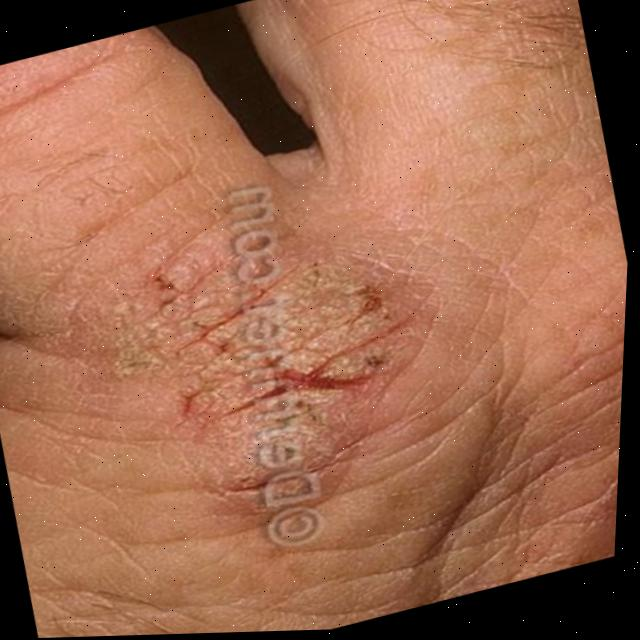Eczema: (91, 173, 427, 517)
